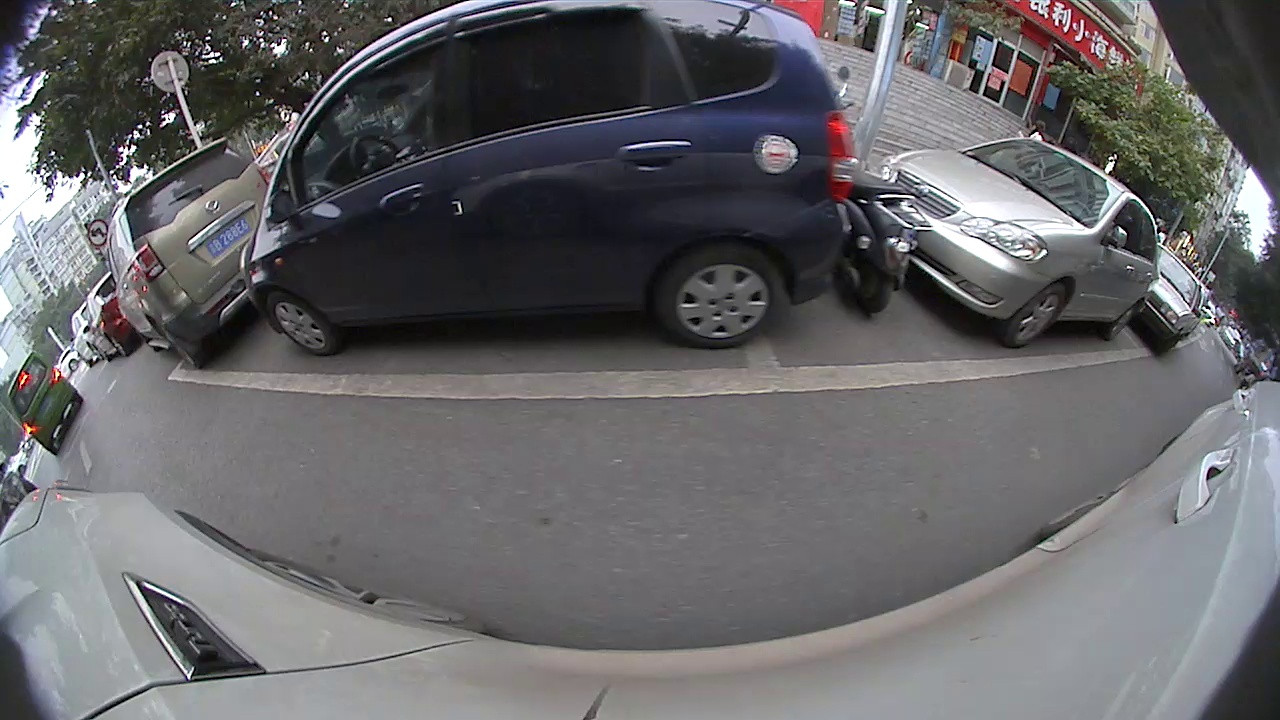car: (236, 1, 861, 362), (883, 134, 1164, 351), (102, 136, 276, 374), (1127, 240, 1213, 358), (4, 349, 82, 458), (81, 270, 141, 365)
front: (264, 293, 332, 357), (1014, 279, 1068, 355)
rear: (662, 245, 784, 348), (835, 244, 903, 310)
rider: (822, 61, 935, 322)
